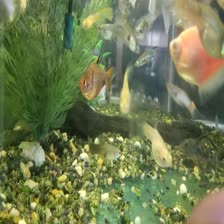Guppy: (140, 117, 176, 177), (161, 80, 201, 119), (116, 64, 133, 122), (82, 135, 124, 158)
Kiros: (180, 129, 223, 173)
Plano: (166, 28, 222, 87)
Transparente: (76, 53, 116, 101)
